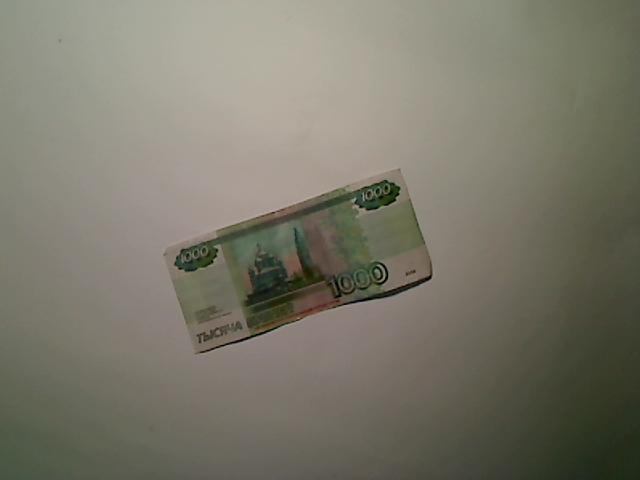banknotes: (161, 166, 437, 357)
